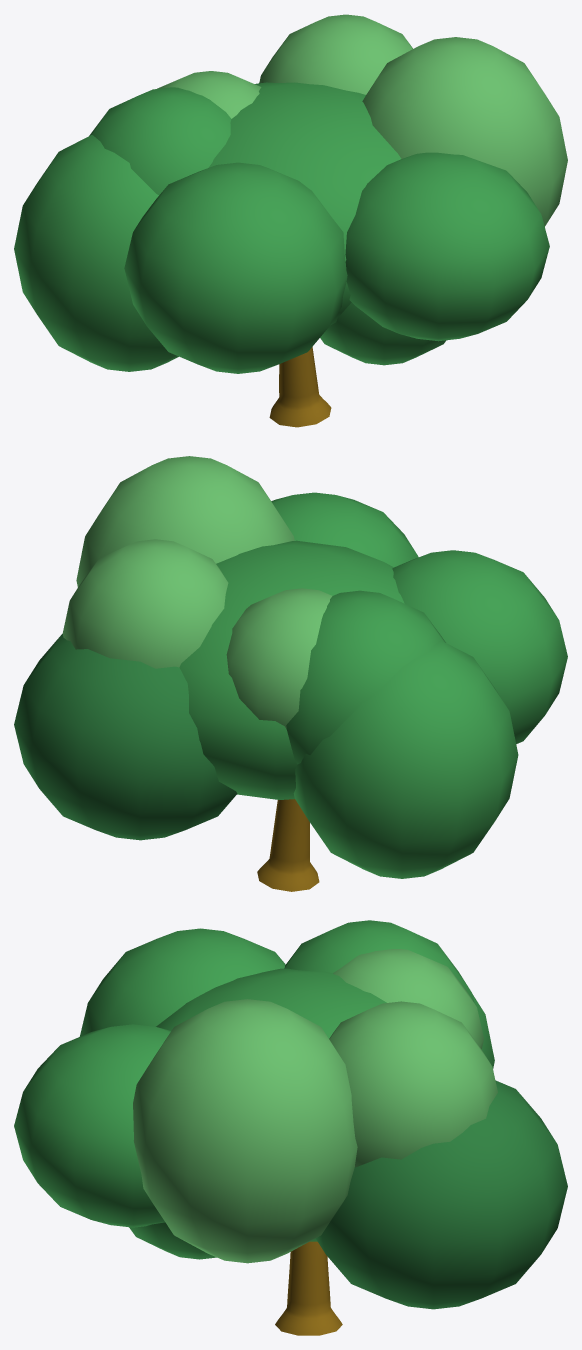
The model's file is broadleaf_1.glb.
3 renders of one model, top to bottom at view 1: azimuth 30°, elevation 25°; view 2: azimuth 150°, elevation 25°; view 3: azimuth 270°, elevation 25°, orthographic. The views are drawn at different scales.
Visible parts, largest first — view 1: crown, trunk; view 2: crown, trunk; view 3: crown, trunk.
Part boxes in pixels (x1,y1,x2,y2): crown: [14, 14, 567, 373]; trunk: [269, 347, 331, 427]; crown: [14, 456, 567, 878]; trunk: [257, 799, 319, 891]; crown: [14, 920, 567, 1309]; trunk: [275, 1241, 342, 1335].
Size of the model in its own units: 2.76 by 2.03 by 2.65.
